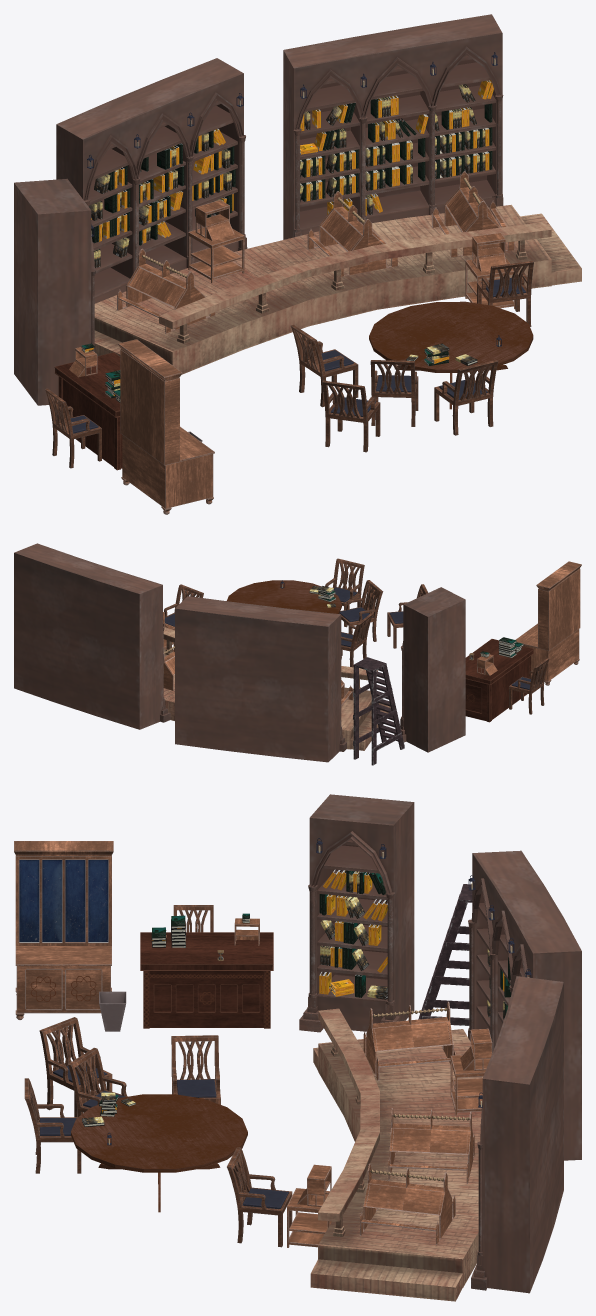
Rendered from medieval_library_kit.glb.
3 views of the same model, one above another, from view 1: azimuth 30°, elevation 25°; view 2: azimuth 150°, elevation 25°; view 3: azimuth 270°, elevation 25° (orthographic). The views are drawn at different scales.
Visible parts, largest first — view 1: stage.001, shell.001 (×2), shell.018, shell.016 (×2), Cube.013, Cylinder.011, Cube.023 (×6), desk (×3), shell.014 (×2), Cube.011, shell.013 (×2), Cube.015 (×2) (+6 smaller); view 2: shell.001 (×2), shell.018, Cube.013, Cube.011, Cube.010, Cube.023 (×5), Cylinder.011, stage.001, shell.016 (×2), desk, Cube.025, Cube.051 (+1 smaller); view 3: shell.001 (×2), stage.001, Cylinder.011, desk (×3), Cube.013, shell.018, Cube.014, Cube.023 (×5), Cube.012, Cube.011, shell.016 (×2), shell.025 (+13 smaller).
Part boxes in pixels (left/top/right/bottom): stage.001: left=94, top=204, right=581, bottom=374; shell.001 (×2): left=56, top=14, right=501, bottom=303; shell.018: left=14, top=179, right=88, bottom=405; shell.016 (×2): left=81, top=32, right=502, bottom=274; Cube.013: left=118, top=339, right=214, bottom=514; Cylinder.011: left=369, top=301, right=533, bottom=372; Cube.023 (×6): left=45, top=260, right=533, bottom=468; desk (×3): left=116, top=171, right=514, bottom=333; shell.014 (×2): left=92, top=62, right=490, bottom=180; Cube.011: left=54, top=352, right=122, bottom=470; shell.013 (×2): left=88, top=85, right=495, bottom=205; Cube.015 (×2): left=188, top=227, right=515, bottom=309; shell.001 (×2): left=14, top=544, right=341, bottom=762; shell.018: left=403, top=588, right=465, bottom=752; Cube.013: left=515, top=561, right=581, bottom=685; Cube.011: left=465, top=639, right=533, bottom=722; Cube.010: left=353, top=657, right=404, bottom=765; Cube.023 (×5): left=325, top=558, right=549, bottom=714; Cylinder.011: left=227, top=580, right=341, bottom=613; stage.001: left=163, top=627, right=390, bottom=750; shell.016 (×2): left=36, top=543, right=341, bottom=729; desk: left=163, top=643, right=174, bottom=691; Cube.025: left=338, top=563, right=359, bottom=591; Cube.051: left=477, top=654, right=497, bottom=675; shell.001 (×2): left=475, top=850, right=581, bottom=1293; stage.001: left=310, top=1008, right=482, bottom=1301; Cylinder.011: left=71, top=1094, right=247, bottom=1172; desk (×3): left=359, top=1001, right=474, bottom=1244; Cube.013: left=14, top=841, right=113, bottom=1019; shell.018: left=311, top=794, right=414, bottom=1031; Cube.014: left=18, top=859, right=108, bottom=943; Cube.023 (×5): left=24, top=1017, right=292, bottom=1247; Cube.012: left=149, top=971, right=263, bottom=1027; Cube.011: left=140, top=932, right=273, bottom=1028; shell.016 (×2): left=472, top=853, right=535, bottom=1256; shell.025: left=309, top=816, right=394, bottom=1000.
Bounding box in the file's own units: 0.6198 × 0.1872 × 0.4597.
17 materials, 16 textured.
